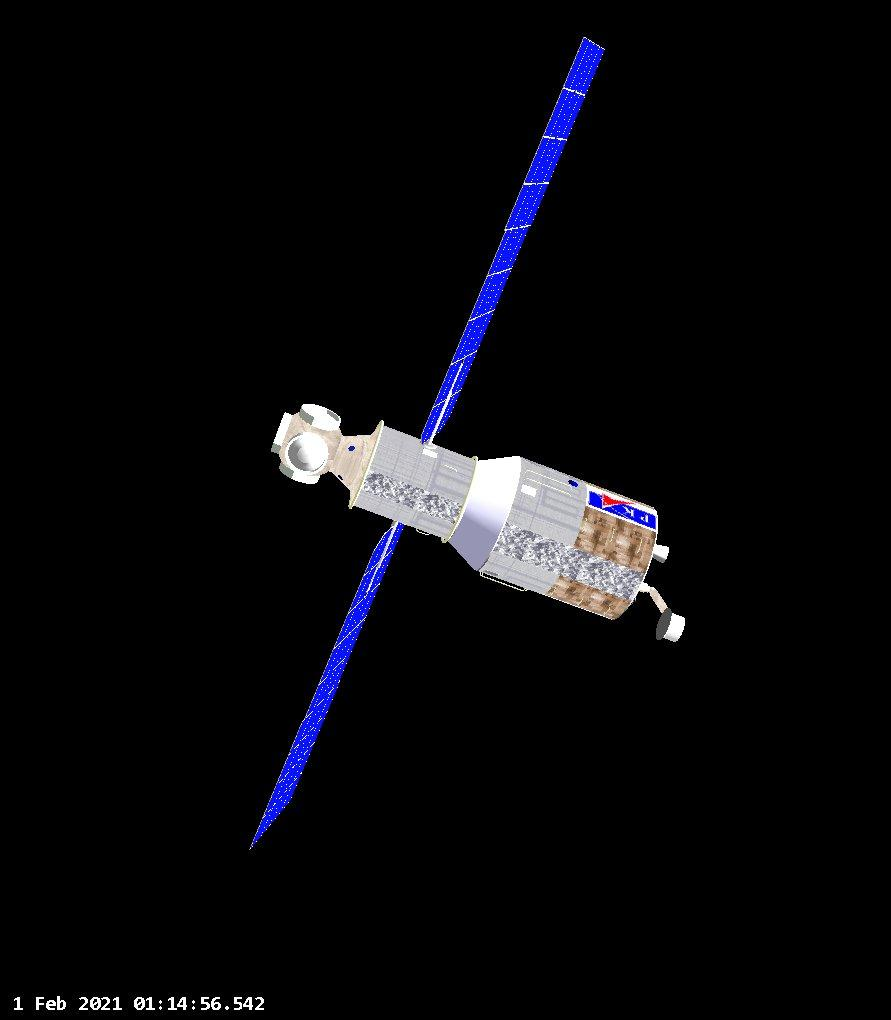antenna: (649, 604, 691, 646)
body: (269, 400, 663, 624)
solar: (414, 31, 611, 448), (238, 517, 409, 853)
thruster: (643, 541, 675, 564)
